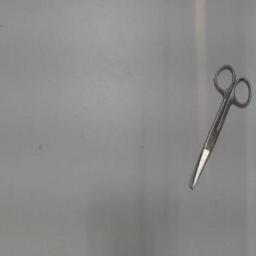Dressing Scissors: (184, 58, 254, 198)
